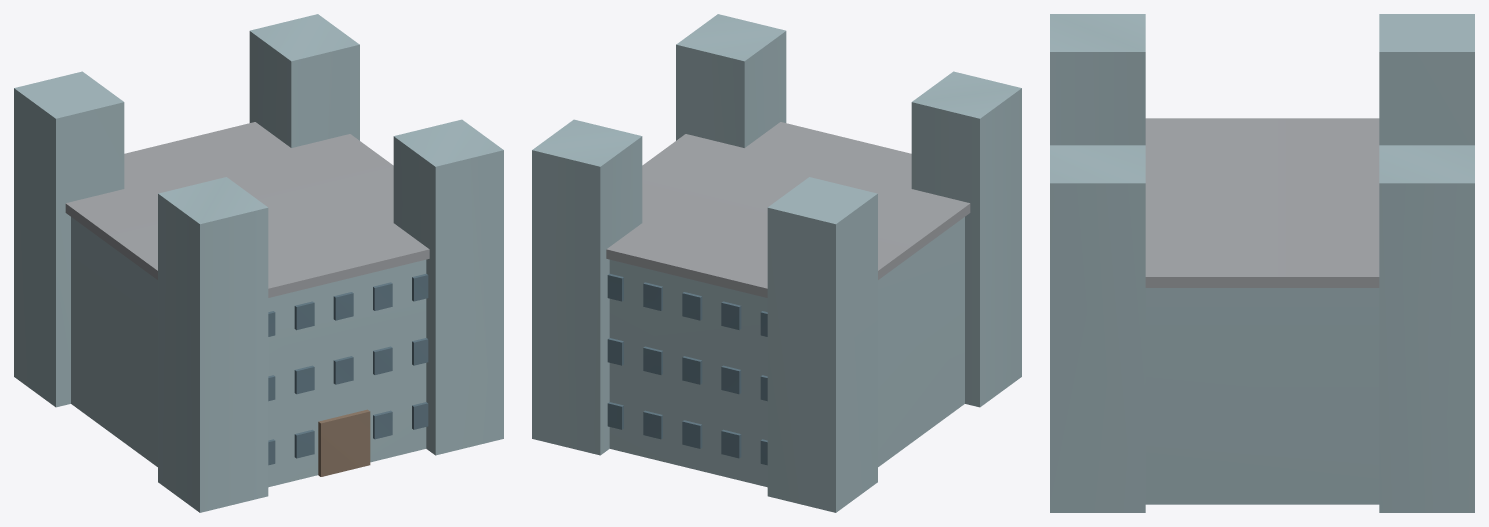
The model's file is castle-01.glb.
The picture shows the model from 3 angles, left to right: view 1: azimuth 30°, elevation 25°; view 2: azimuth 150°, elevation 25°; view 3: azimuth 270°, elevation 25°; orthographic projection. The views are drawn at different scales.
Parts seen in each view (by area): view 1: world; view 2: world; view 3: world.
Part boxes in pixels (x1,y1,x2,y2): world: (14,14,503,512); world: (532,14,1021,512); world: (1050,14,1474,512).
Bounding box in the file's own units: 2.37 × 2.15 × 2.51.
